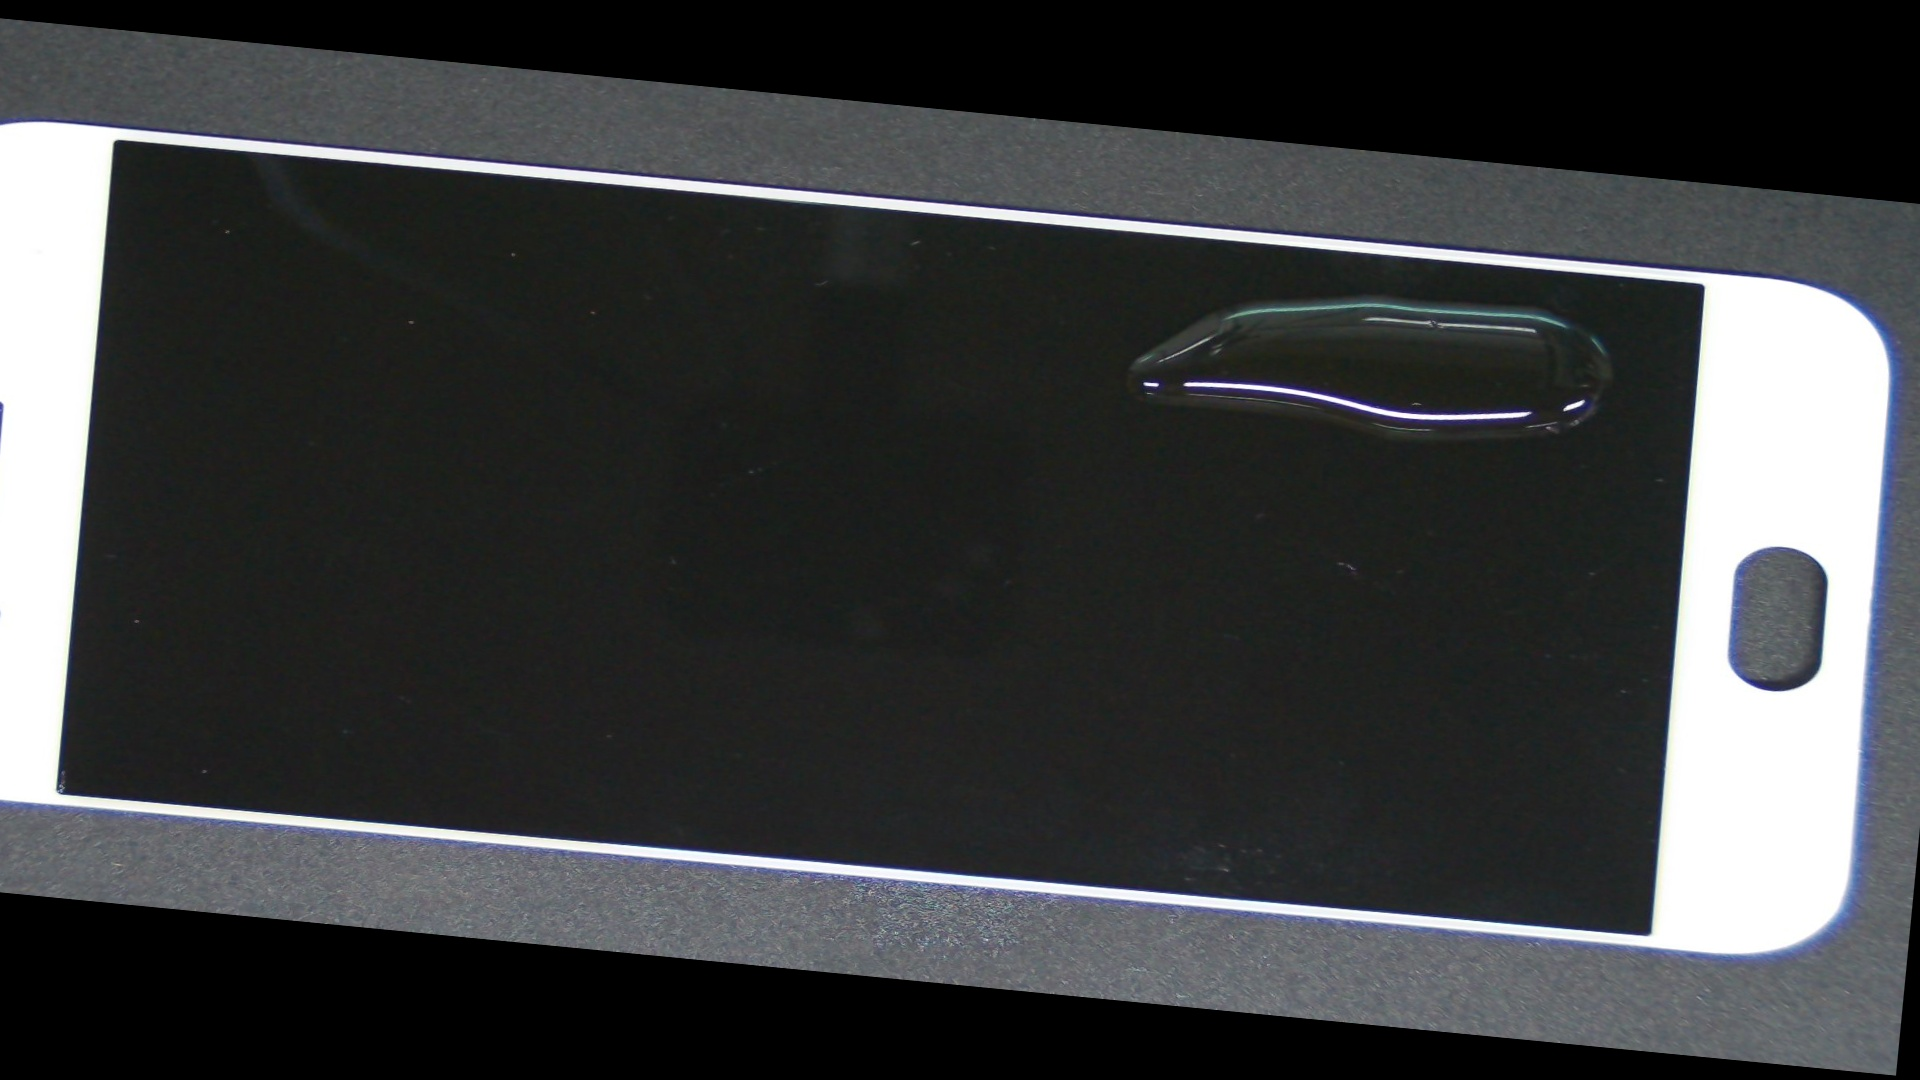oil: (683, 156, 1920, 418)
